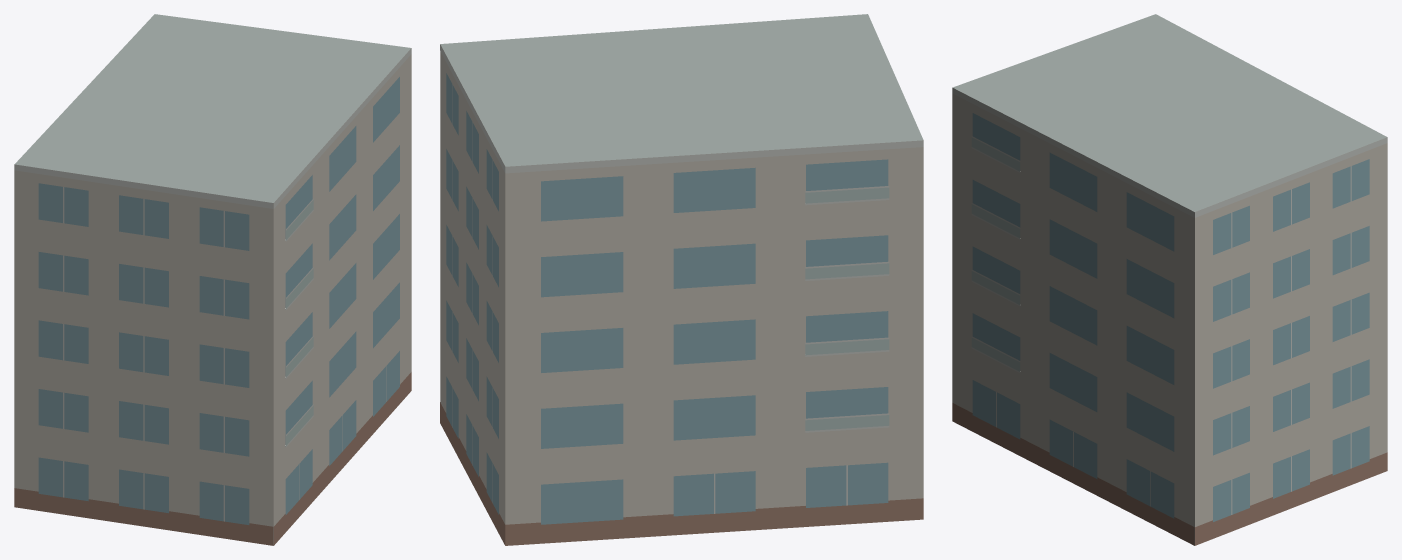
The model's file is survey-upis-32826312.glb.
3 views of the same model, side by side, from view 1: azimuth 30°, elevation 25°; view 2: azimuth 150°, elevation 25°; view 3: azimuth 270°, elevation 25° (orthographic). The views are drawn at different scales.
Visible parts, largest first — view 1: survey-upis-32826312.tmp; view 2: survey-upis-32826312.tmp; view 3: survey-upis-32826312.tmp.
Part boxes in pixels (x1,y1,x2,y2): survey-upis-32826312.tmp: [14, 14, 411, 545]; survey-upis-32826312.tmp: [440, 14, 923, 545]; survey-upis-32826312.tmp: [952, 14, 1387, 545].
Size of the model in its own units: 17.77 by 13.95 by 16.49.
